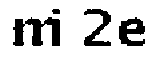2: (76, 6, 112, 48)
e: (118, 16, 146, 50)
i: (51, 5, 66, 51)
m: (8, 15, 57, 53)
